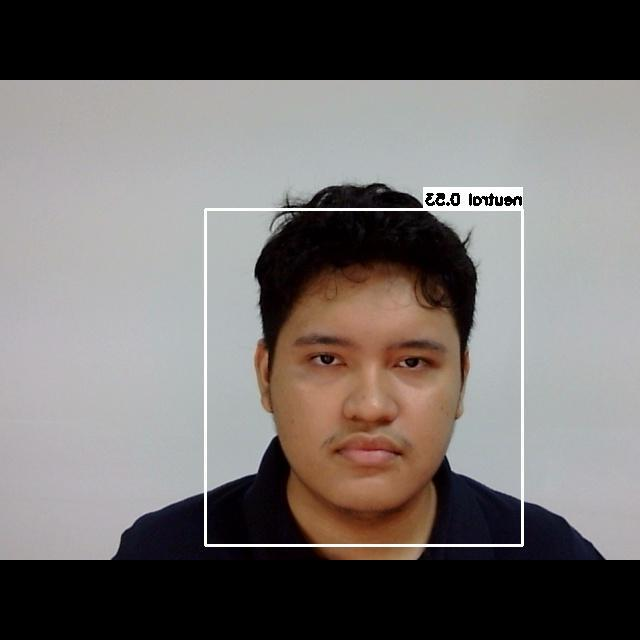Natural: (274, 309, 469, 507)
